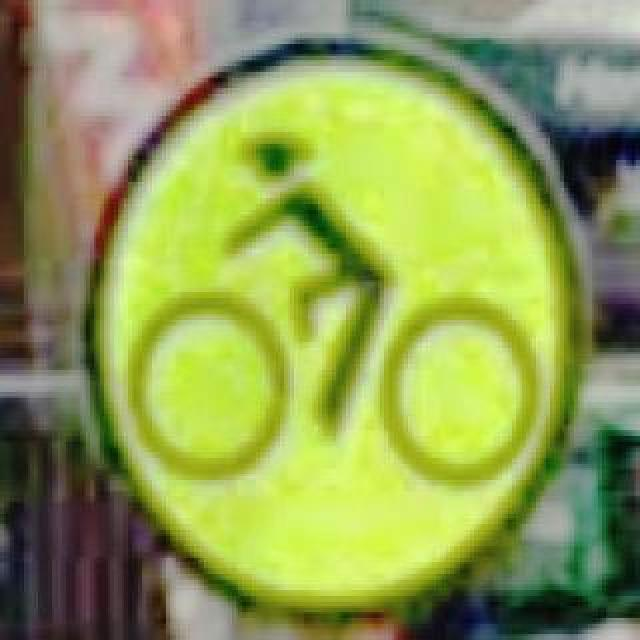bike lane: (82, 34, 584, 602)
